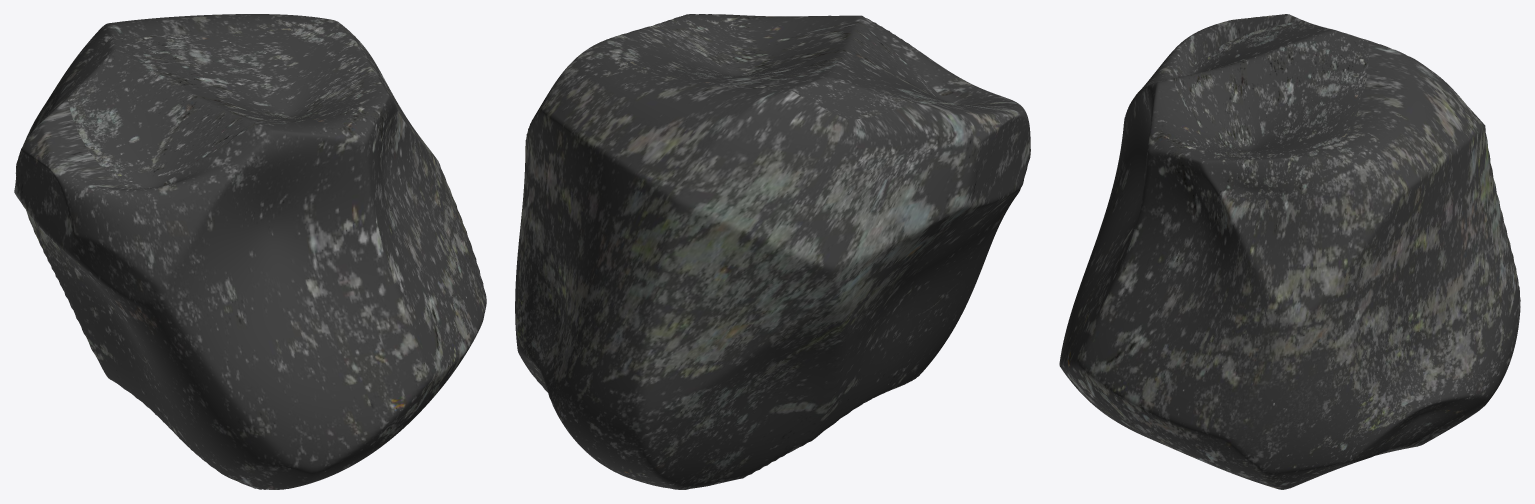
Rendered from rock.fbx.
3 renders of one model, left to right at view 1: azimuth 30°, elevation 25°; view 2: azimuth 150°, elevation 25°; view 3: azimuth 270°, elevation 25°, orthographic. The views are drawn at different scales.
Parts seen in each view (by area): view 1: rock; view 2: rock; view 3: rock.
Boxes of the visible parts, x1=… form: rock: x1=14, y1=14, x2=486, y2=489; rock: x1=515, y1=14, x2=1030, y2=489; rock: x1=1059, y1=14, x2=1520, y2=489.
Bounding box in the file's own units: 244 × 208 × 239.
